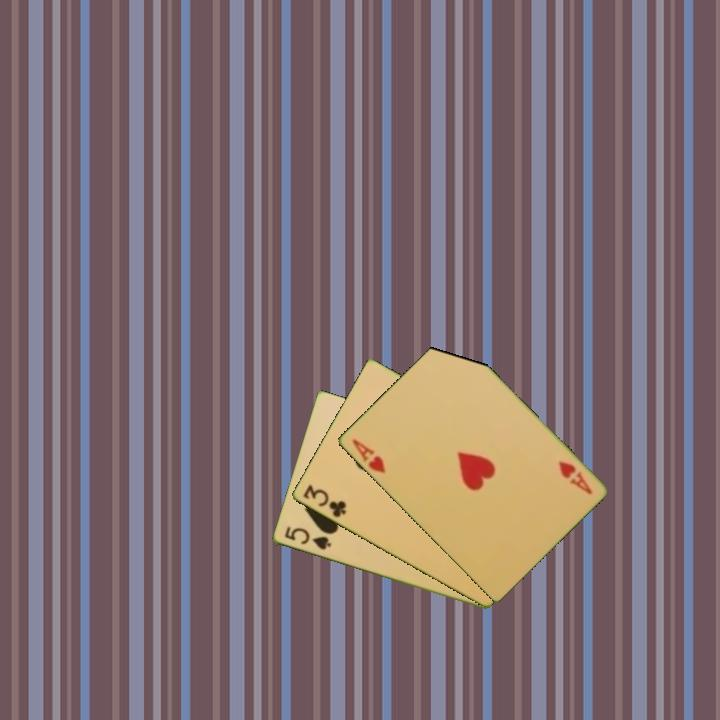3c: (299, 481, 349, 521)
5s: (280, 523, 334, 553)
Ah: (348, 435, 388, 476), (554, 458, 595, 497)
